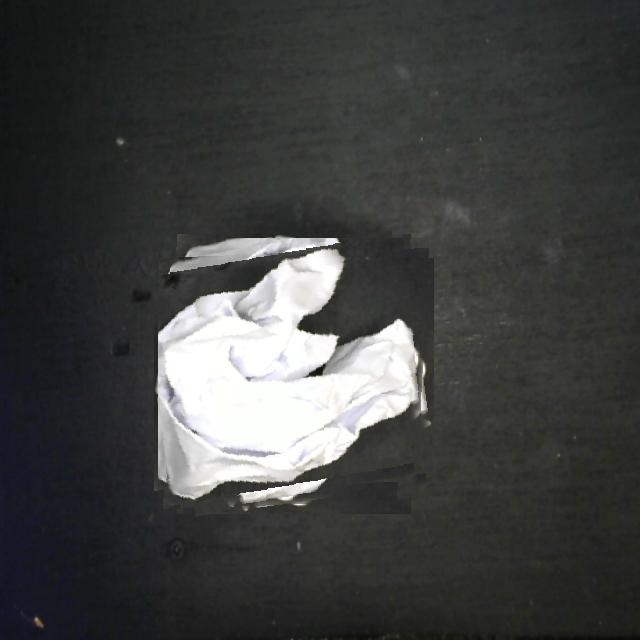biodegradable: (158, 238, 430, 510)
